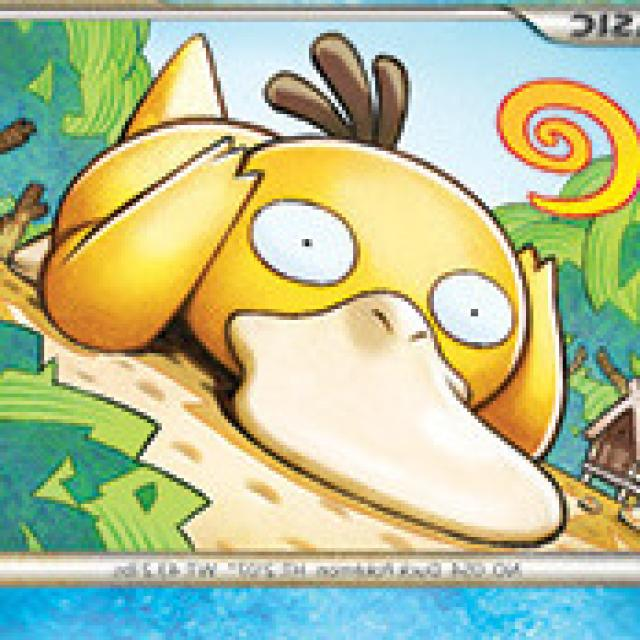Psyduck: (52, 93, 561, 480)
